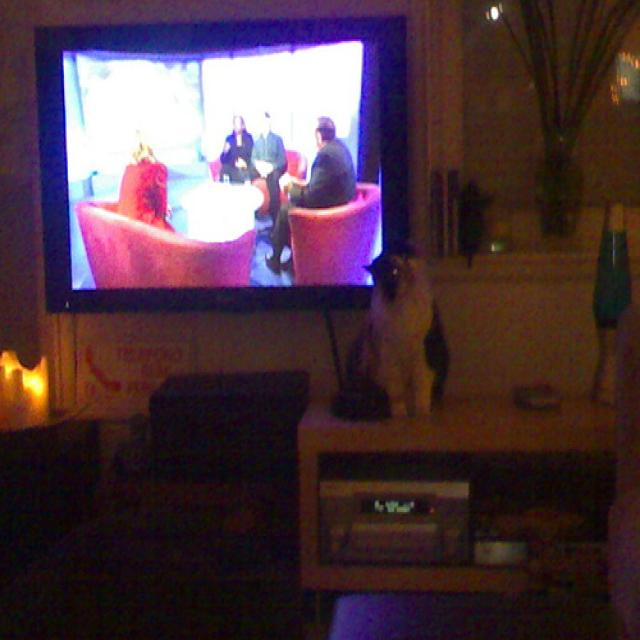Cat: (361, 230, 453, 420)
Table: (290, 374, 640, 638), (133, 343, 309, 546), (0, 382, 114, 538)
